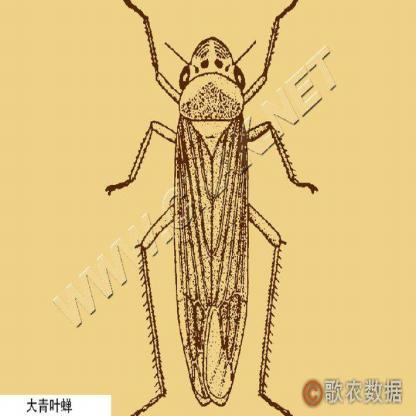Green-Leafhopper: (107, 0, 318, 416)
